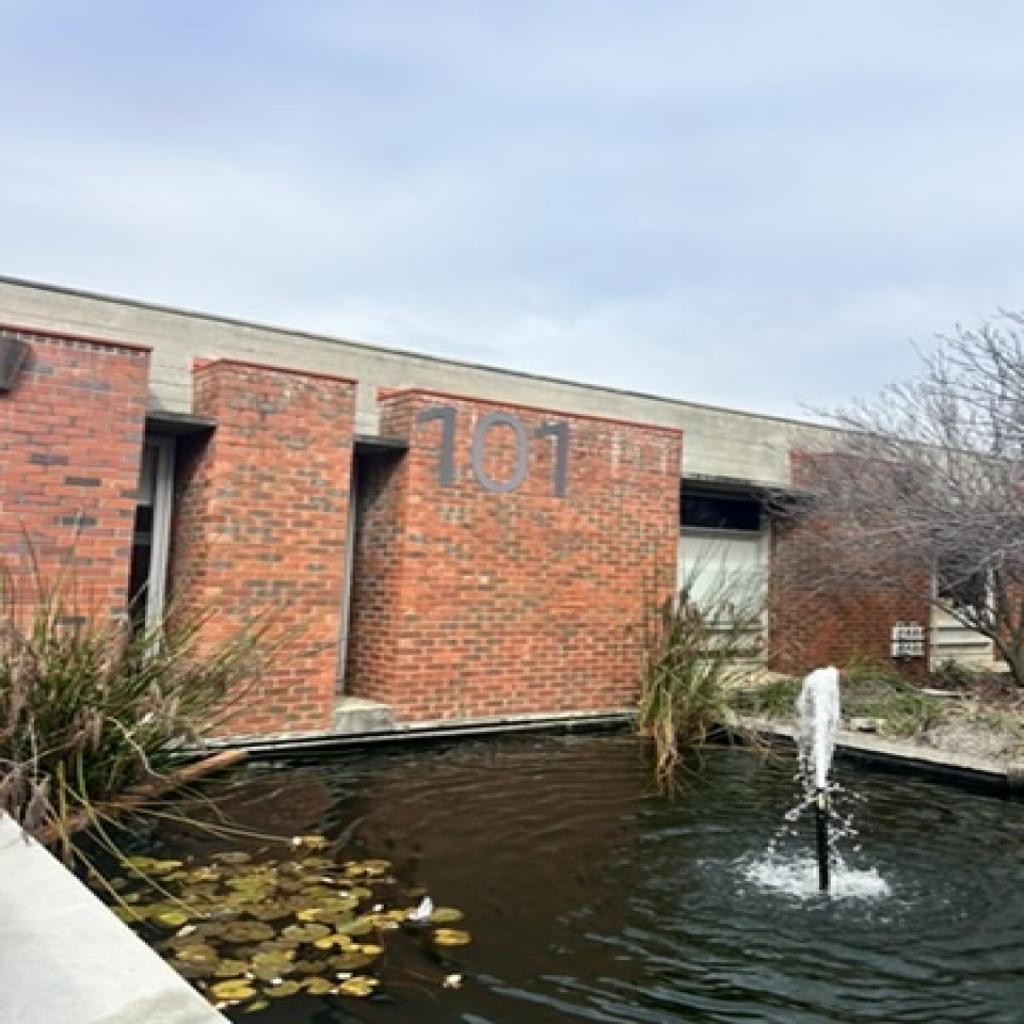BuildingCodes: (414, 402, 574, 502)
